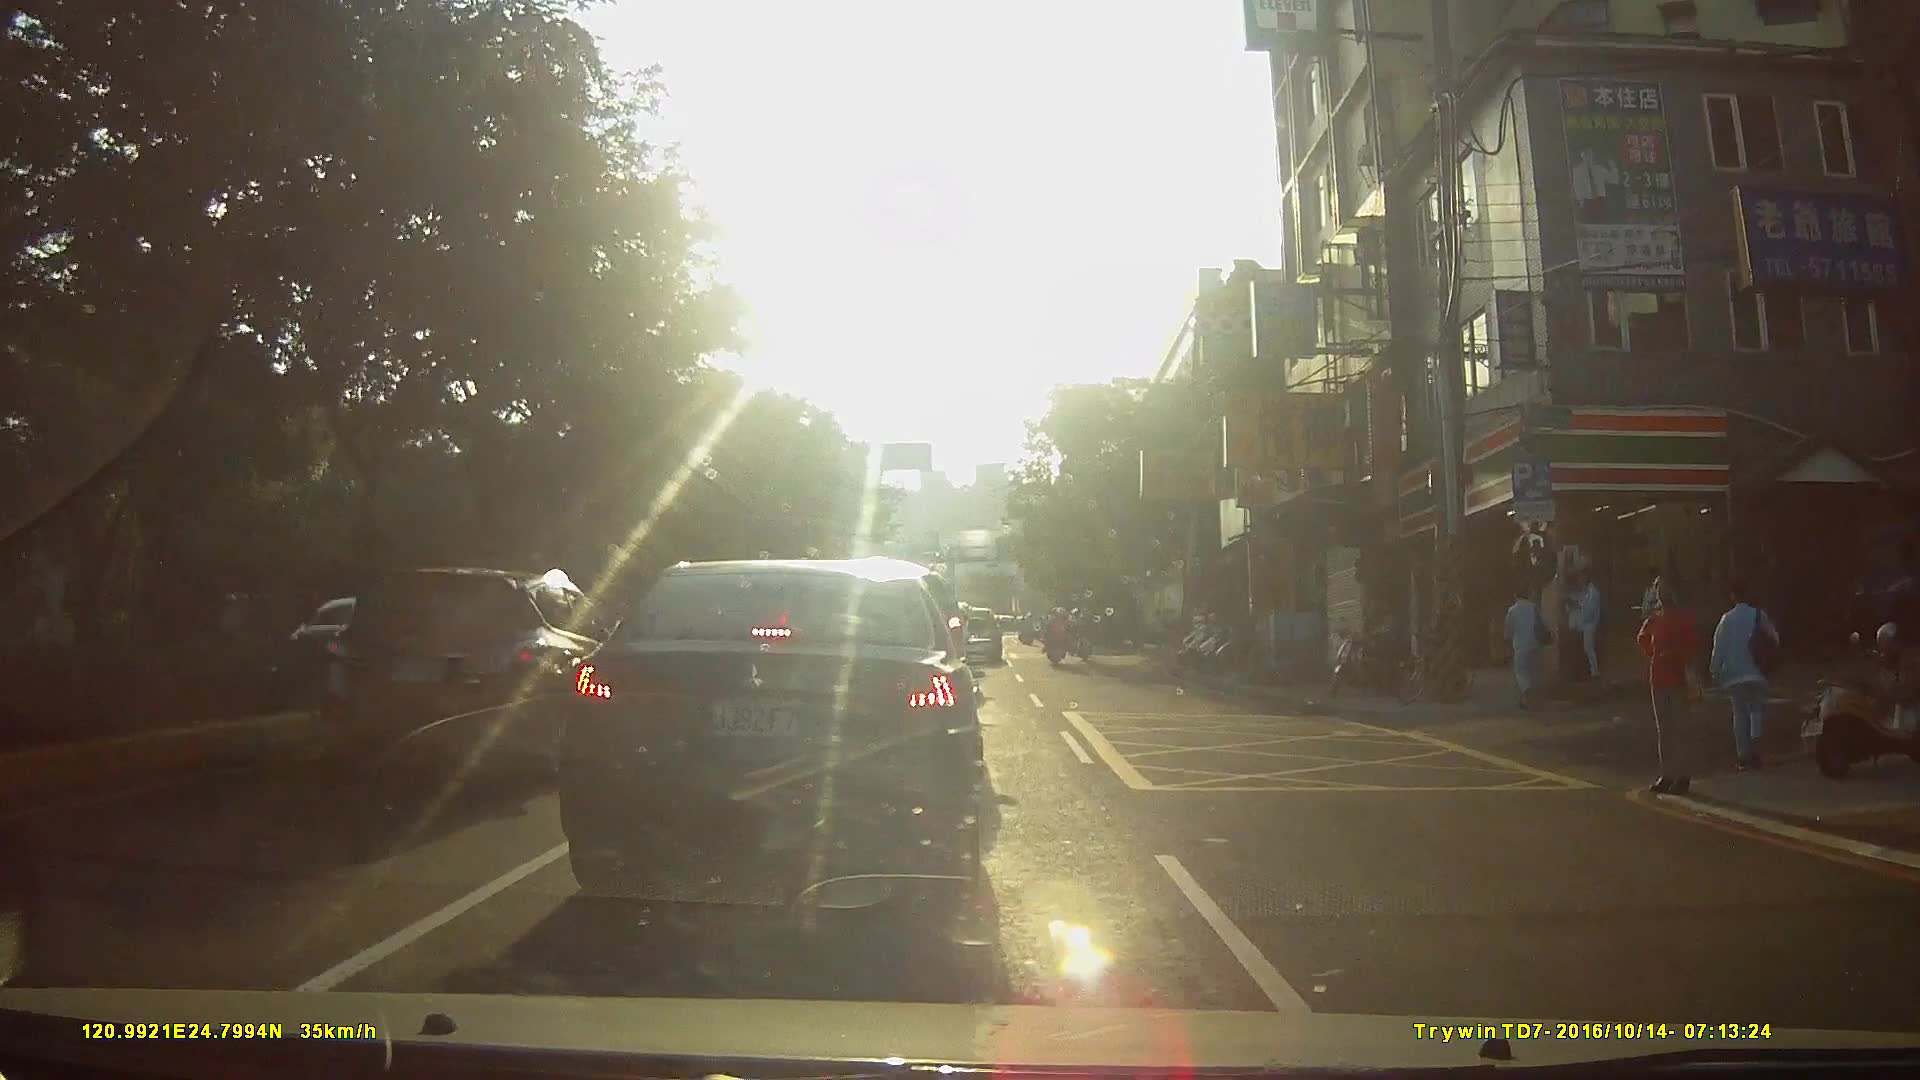pedestrian: (1631, 576, 1699, 794), (1707, 581, 1784, 769), (1499, 581, 1552, 714), (1562, 569, 1604, 682), (1560, 569, 1582, 687)
rider: (1042, 607, 1074, 670), (1066, 607, 1092, 660)
vehicle: (553, 558, 1006, 908), (311, 565, 662, 801)
